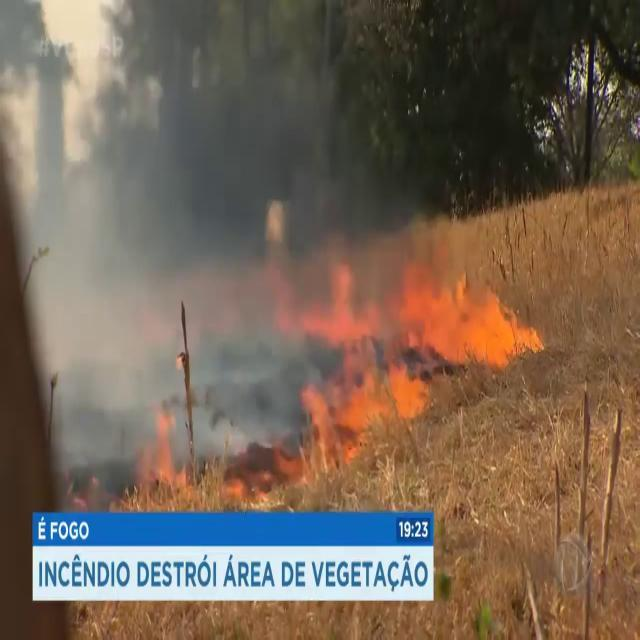Fire: (283, 240, 431, 486), (396, 251, 542, 369)
Smoke: (18, 121, 293, 462)
